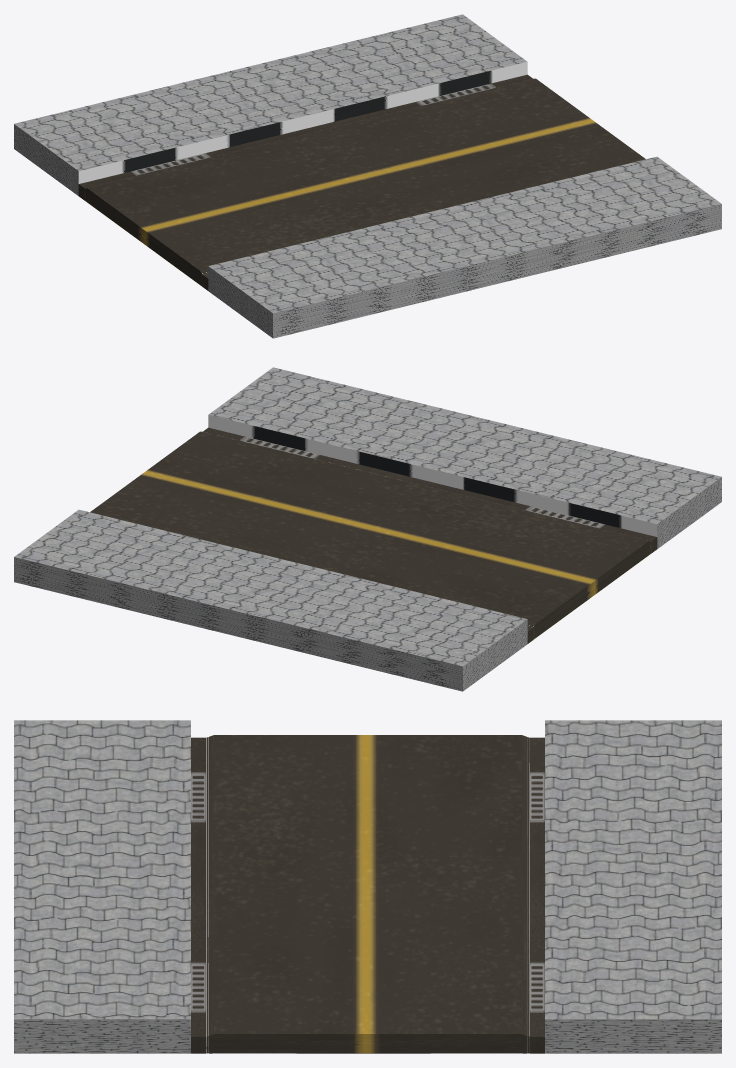
Rendered from ModularRoad.fbx.
3 views of the same model, one above another, from view 1: azimuth 30°, elevation 25°; view 2: azimuth 150°, elevation 25°; view 3: azimuth 270°, elevation 25° (orthographic). The views are drawn at different scales.
Visible parts, largest first — view 1: ModularRoad; view 2: ModularRoad; view 3: ModularRoad.
Boxes of the visible parts, box(x1,y1,x2,y2) form: ModularRoad: box(14, 14, 721, 338); ModularRoad: box(14, 367, 721, 691); ModularRoad: box(14, 720, 721, 1053).
Size of the model in its own units: 32.7 by 1.75 by 32.7.
1 material, 1 textured.
